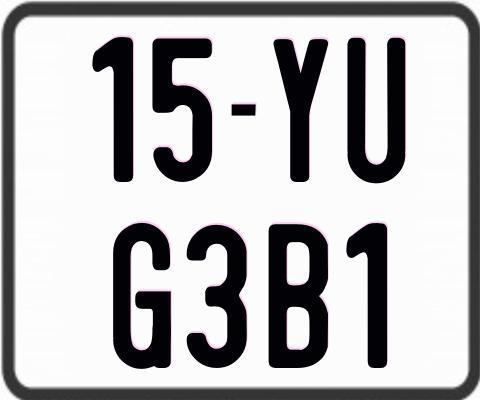1: (343, 220, 389, 368), (90, 34, 133, 183)
3: (184, 222, 245, 367)
5: (150, 35, 214, 181)
B: (269, 223, 328, 367)
G: (113, 223, 177, 375)
U: (344, 38, 403, 183)
Y: (273, 39, 333, 187)
